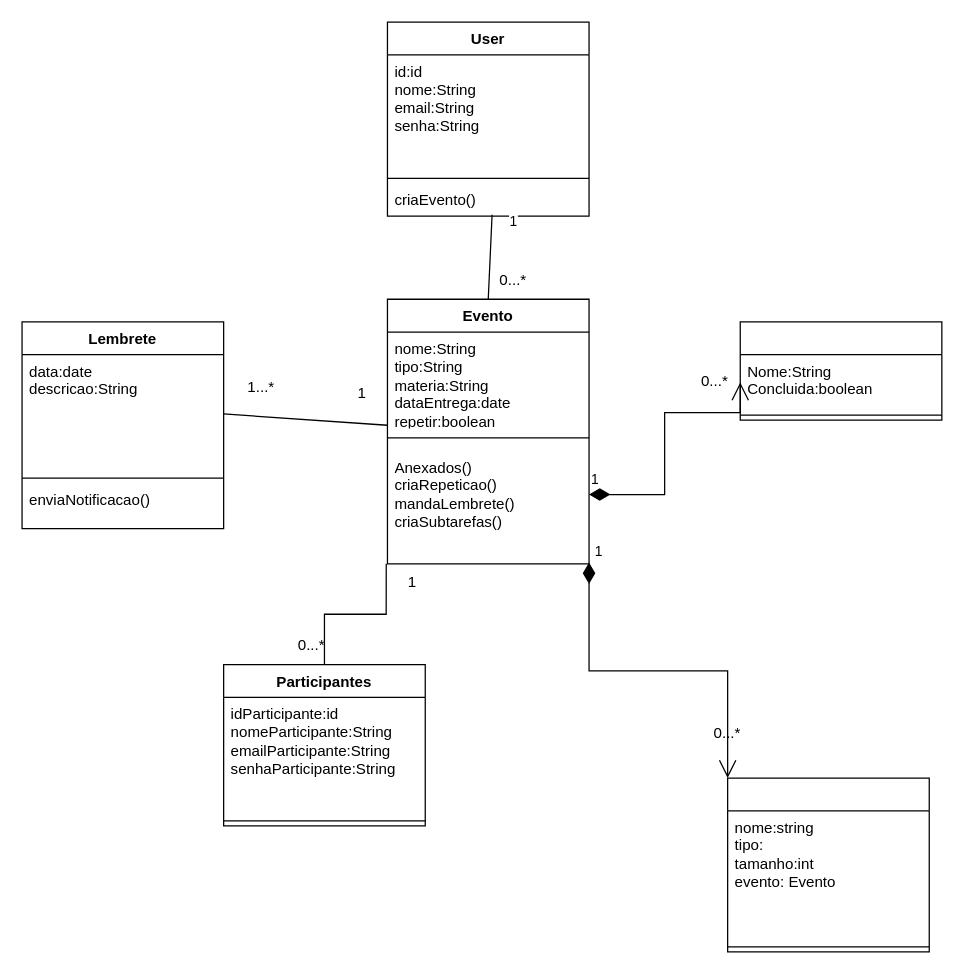
The diagram is 964 pixels wide and 974 high, and some of its shapes have lost their labels. The box of each missing label's shape, as (x1, y1, x2, y2) in pixels:
Anexo: (726, 777, 929, 952)
Subtarefa: (739, 321, 942, 420)
